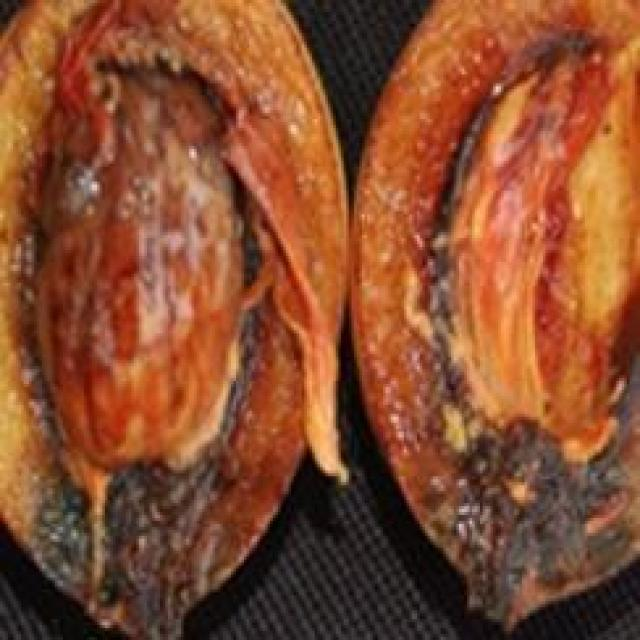damaged: (0, 0, 351, 637), (349, 0, 637, 637)
